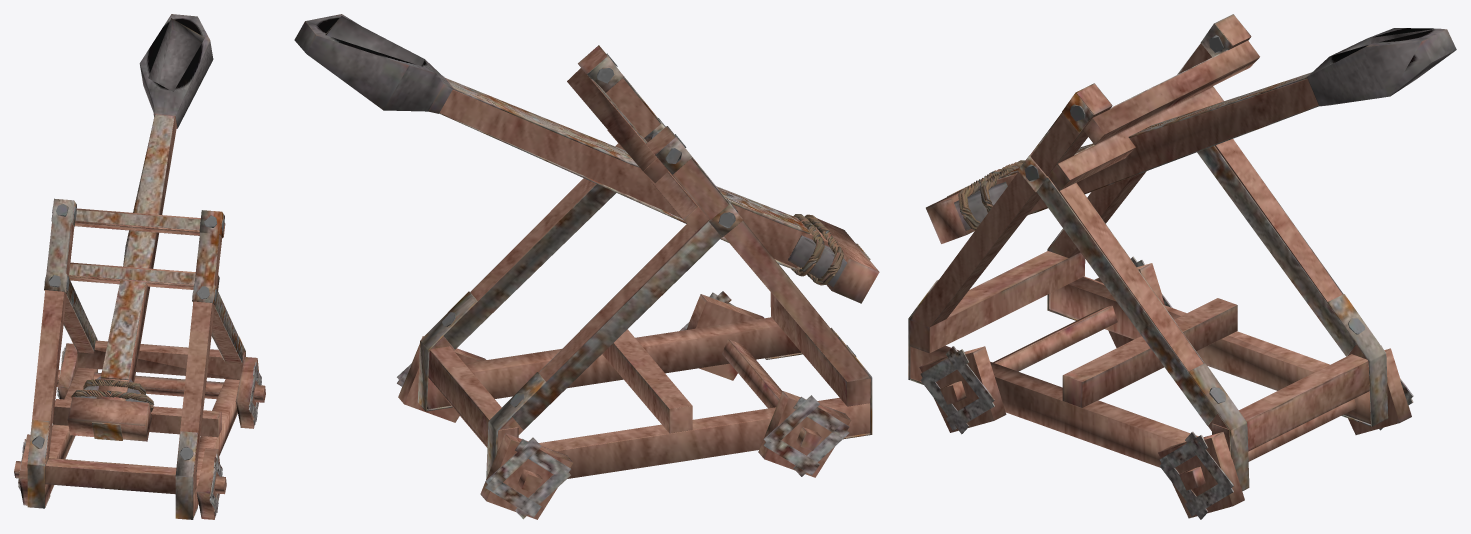
The model's file is catapult.lod0.glb.
The picture shows the model from 3 angles, left to right: view 1: azimuth 30°, elevation 25°; view 2: azimuth 150°, elevation 25°; view 3: azimuth 270°, elevation 25°; orthographic projection. The views are drawn at different scales.
Visible parts, largest first — view 1: Object_4, Object_5; view 2: Object_4, Object_5; view 3: Object_4, Object_5.
Part boxes in pixels (bbox=[...]): Object_4: bbox=[14, 14, 265, 519]; Object_5: bbox=[18, 115, 261, 519]; Object_4: bbox=[294, 14, 879, 519]; Object_5: bbox=[397, 45, 872, 519]; Object_4: bbox=[909, 14, 1456, 518]; Object_5: bbox=[908, 14, 1413, 519].
Size of the model in its own units: 6.32 by 6.96 by 7.
2 materials, 2 textured.
